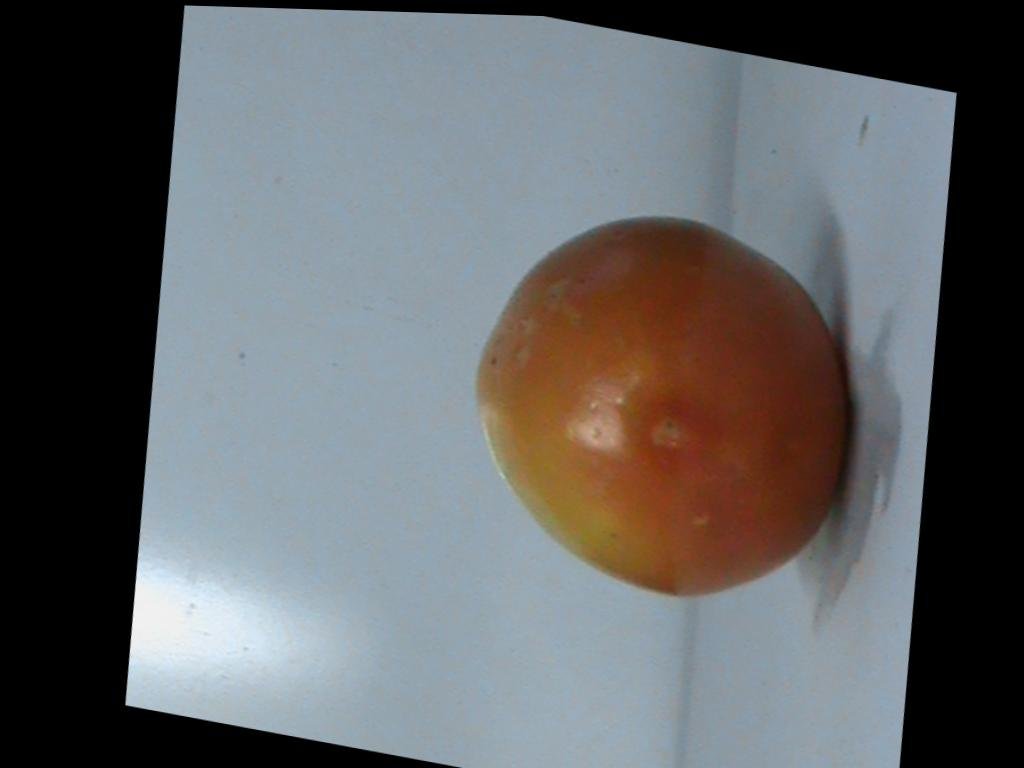bruise_discoloration: (476, 390, 659, 590)
tomato: (476, 216, 846, 595)
